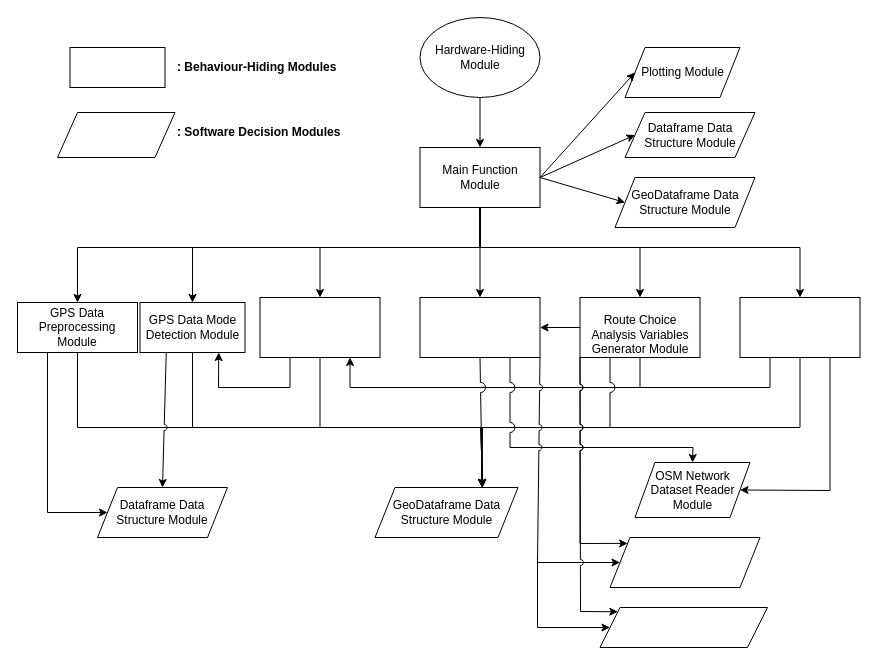
Some shapes in this 878 by 665 pixel diagram are drawn without their labels. Here are the shapes that lost their labels. From the top down, the centre of each, then its label:
point (319, 327): Trip Segments and Activity Locations Extraction Module
point (479, 327): Route Choice Set Generator Module
point (799, 327): Activity Locations Identification Module
point (684, 562): Geometric Object Analysis and Manipulation Module
point (683, 627): Network Analysis Module
